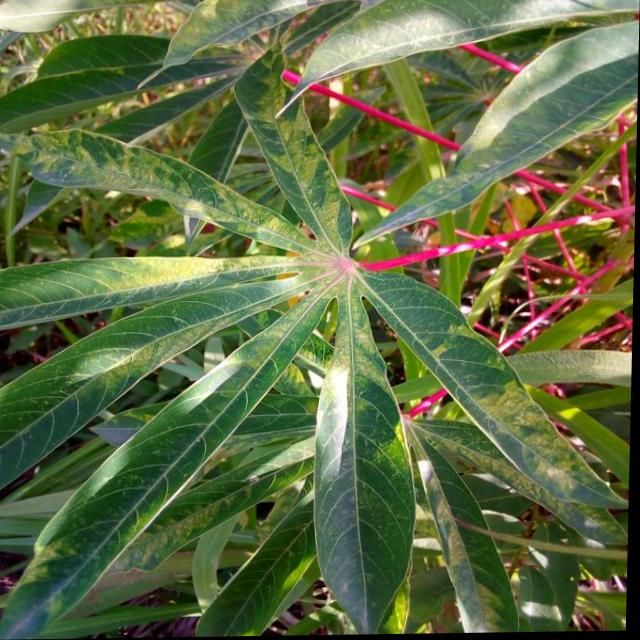Mosaico: (40, 114, 503, 568), (249, 345, 640, 640)
